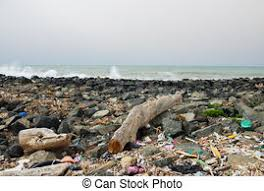garbage: (9, 91, 263, 177)
